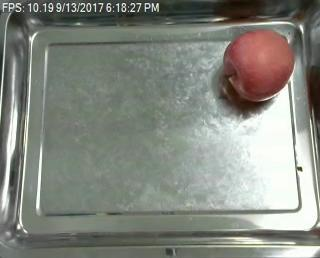apple: (223, 28, 296, 101)
